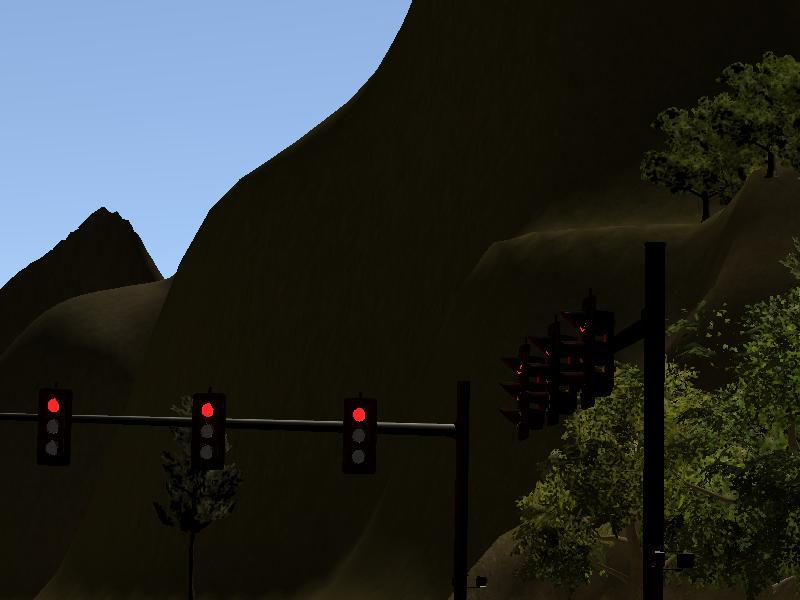Red: (36, 390, 68, 463), (345, 401, 374, 470), (194, 397, 222, 466)
